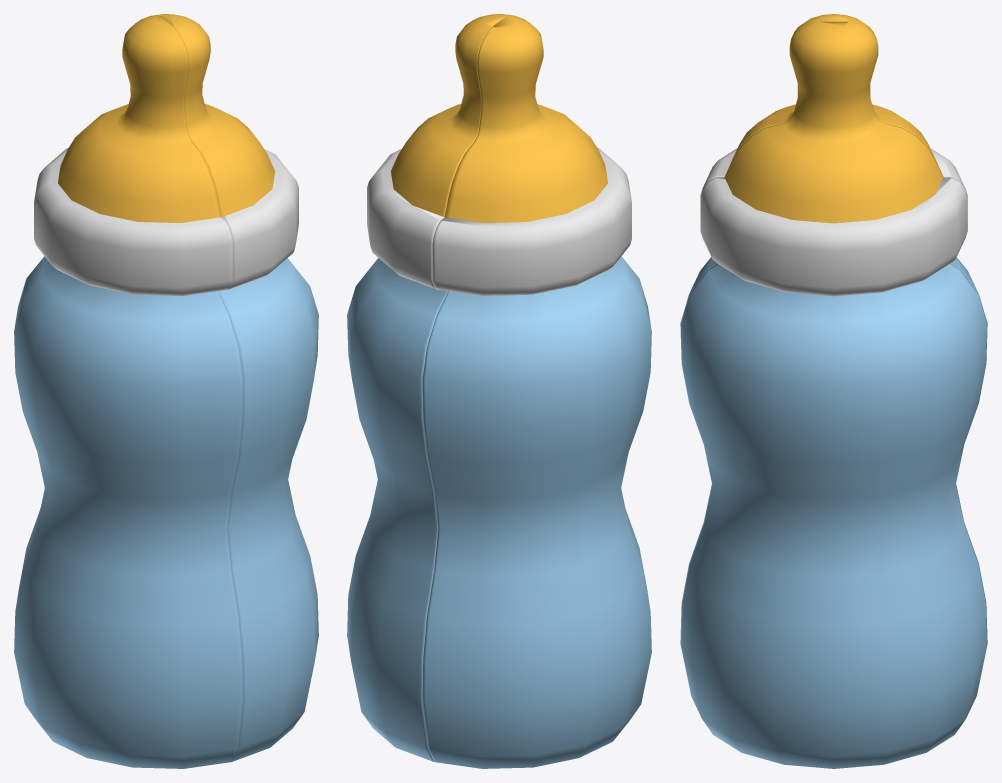
The model's file is SM_Bottle_02a.fbx.
3 views of the same model, side by side, from view 1: azimuth 30°, elevation 25°; view 2: azimuth 150°, elevation 25°; view 3: azimuth 270°, elevation 25° (orthographic).
Parts seen in each view (by area): view 1: Bottle_02, Bottle_01; view 2: Bottle_02, Bottle_01; view 3: Bottle_01, Bottle_02.
Boxes of the visible parts, x1,y1,x2,y2 form: Bottle_02: (14, 15, 243, 768); Bottle_01: (155, 14, 318, 761); Bottle_02: (422, 15, 651, 768); Bottle_01: (347, 14, 510, 761); Bottle_01: (680, 21, 987, 768); Bottle_02: (689, 14, 978, 293).
Bounding box in the file's own units: 33.02 × 82.97 × 33.02.
